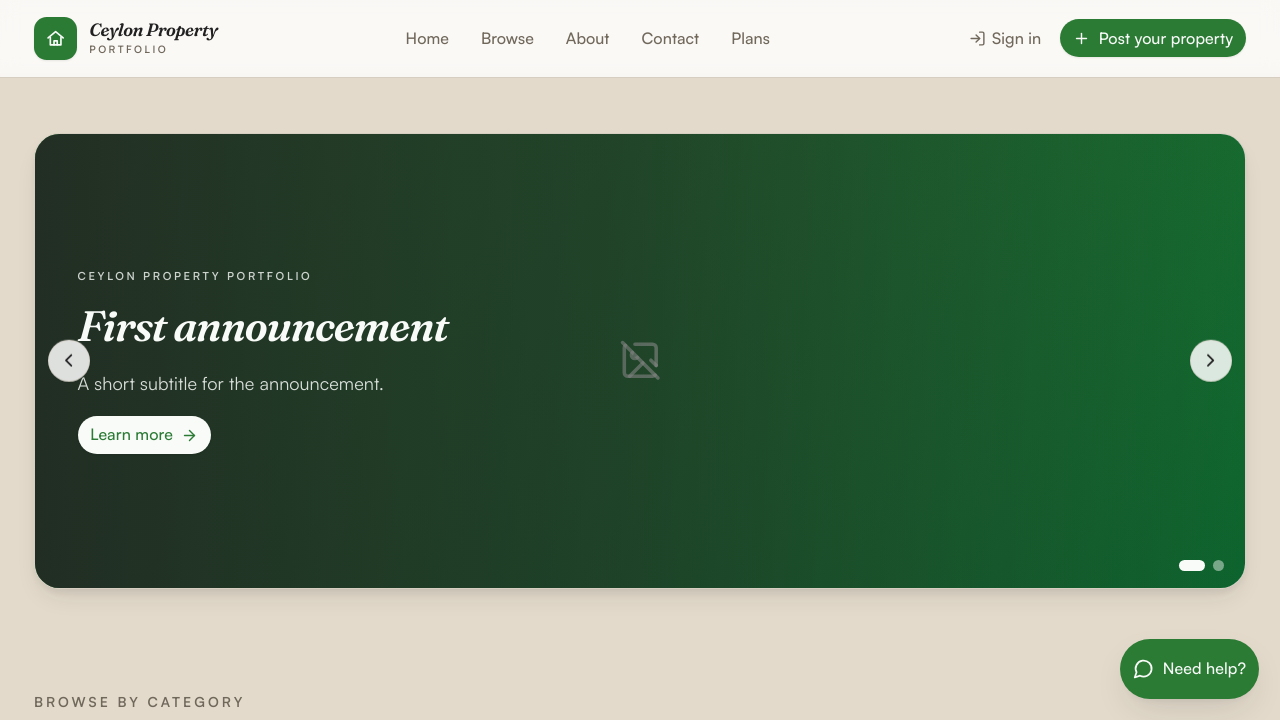
Test: public home content › advances the banner slider with the next control
(page scrolled)
Click the button with test id "home.banner_next_button": (1211, 361) [1190,340,1232,382]
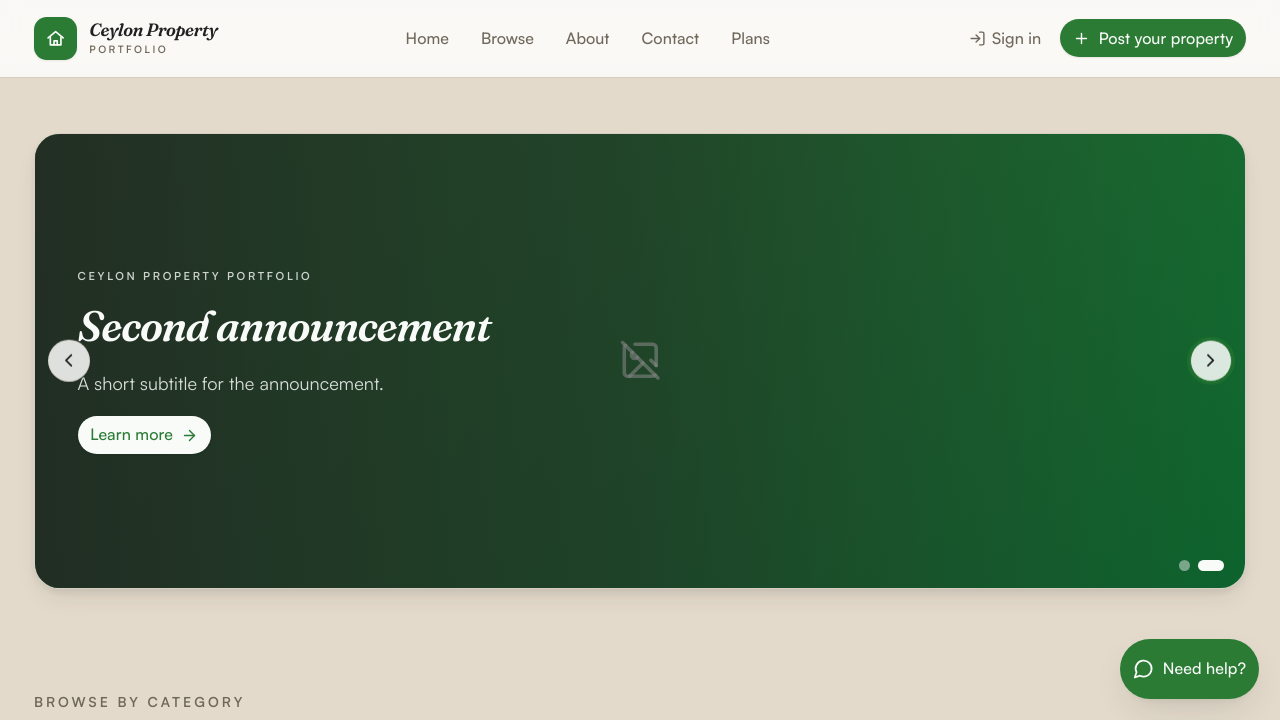
Expected: the heading "Second announcement" is shown, [78,299,491,352]
